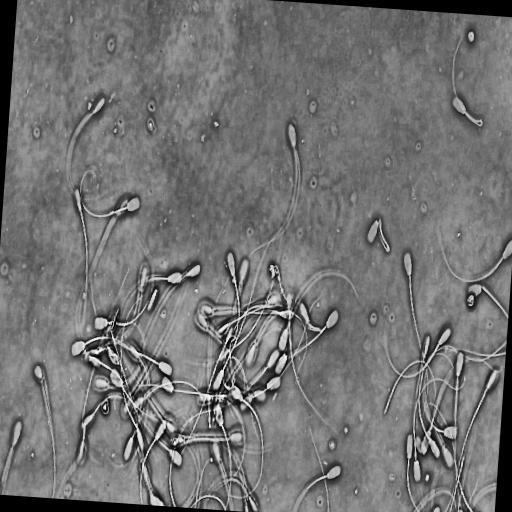dirt-particles: (467, 25, 477, 46)
folded-tail: (89, 356, 159, 421), (452, 40, 483, 127), (60, 422, 86, 492), (378, 220, 389, 252)
loose-head: (273, 349, 288, 378), (147, 286, 159, 318), (160, 374, 175, 395)
loose-tail: (382, 357, 438, 423)
normal: (211, 234, 277, 393), (286, 289, 344, 440), (249, 120, 303, 262), (451, 368, 500, 495), (412, 373, 467, 482), (93, 242, 156, 332), (401, 246, 431, 434), (266, 306, 341, 379), (383, 305, 451, 385), (85, 353, 161, 424), (436, 223, 512, 288), (69, 335, 151, 395), (63, 92, 106, 205), (226, 384, 264, 500), (418, 349, 455, 460), (449, 32, 488, 136), (78, 166, 143, 221), (33, 360, 58, 498), (58, 420, 89, 497), (139, 420, 167, 504), (212, 400, 233, 510), (452, 347, 466, 512), (74, 186, 88, 338), (226, 250, 240, 369), (361, 212, 391, 266), (405, 430, 422, 512), (443, 465, 462, 512)
proximal-droplet: (232, 276, 237, 284)
